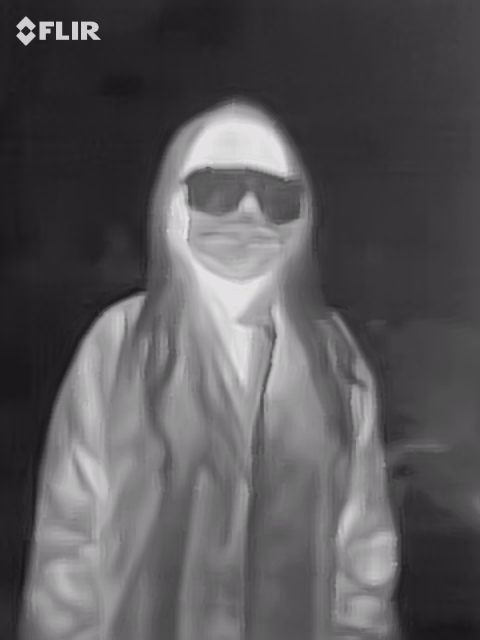head: (149, 99, 314, 288)
